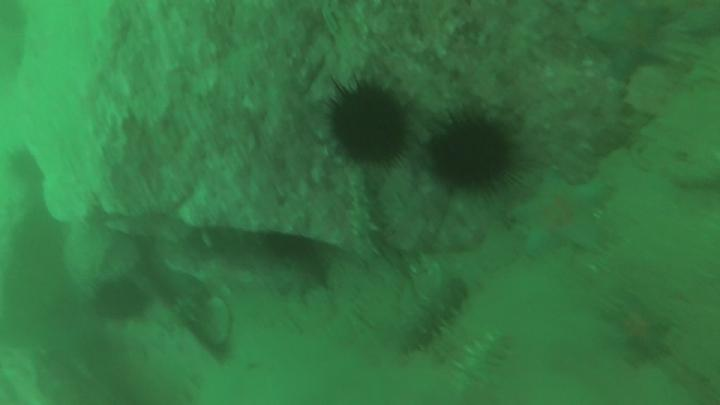echinus: (429, 114, 513, 191), (334, 88, 408, 166), (95, 276, 149, 323)
holothurian: (383, 277, 471, 351), (451, 329, 514, 401), (349, 168, 380, 262)
scallop: (201, 297, 233, 346)
starfish: (513, 170, 616, 256), (589, 6, 671, 77), (606, 299, 667, 355)
